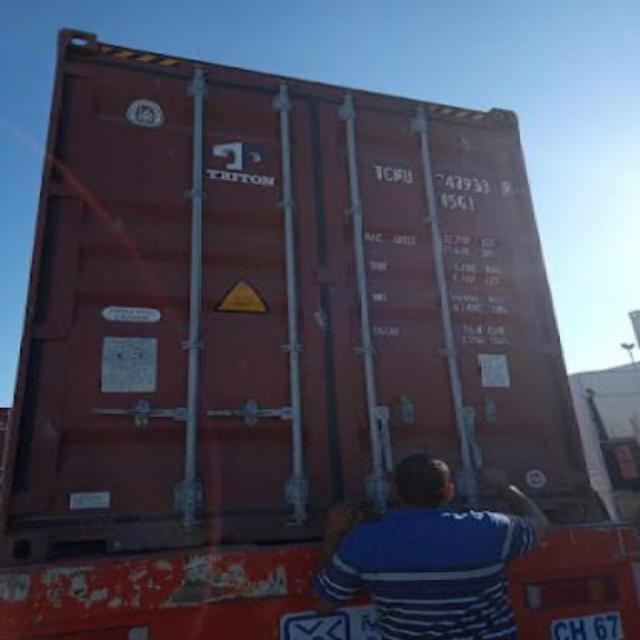3: (480, 177, 492, 201), (470, 176, 480, 198)
4: (446, 170, 456, 194)
7: (432, 172, 444, 190), (454, 170, 462, 194)
9: (500, 176, 518, 197), (462, 171, 472, 197)
C: (382, 160, 392, 188)
K: (391, 163, 404, 189)
T: (372, 160, 382, 186)
U: (398, 154, 422, 184)
